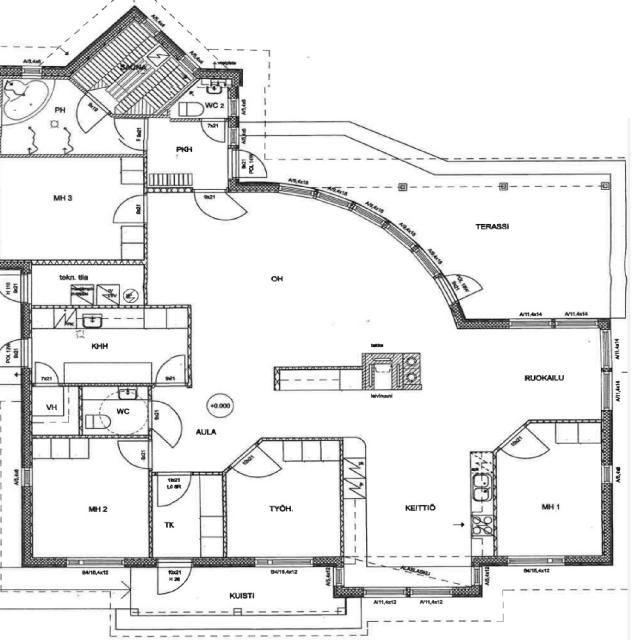door: (230, 443, 282, 490), (498, 425, 550, 471), (435, 264, 485, 304), (63, 92, 110, 134), (158, 557, 191, 596), (228, 150, 270, 178), (157, 471, 190, 505), (194, 188, 226, 221), (148, 400, 183, 429), (112, 195, 147, 223), (117, 441, 152, 468), (156, 357, 185, 388), (0, 339, 32, 366), (0, 275, 32, 302), (114, 120, 147, 146), (201, 114, 225, 140), (35, 362, 59, 386)
